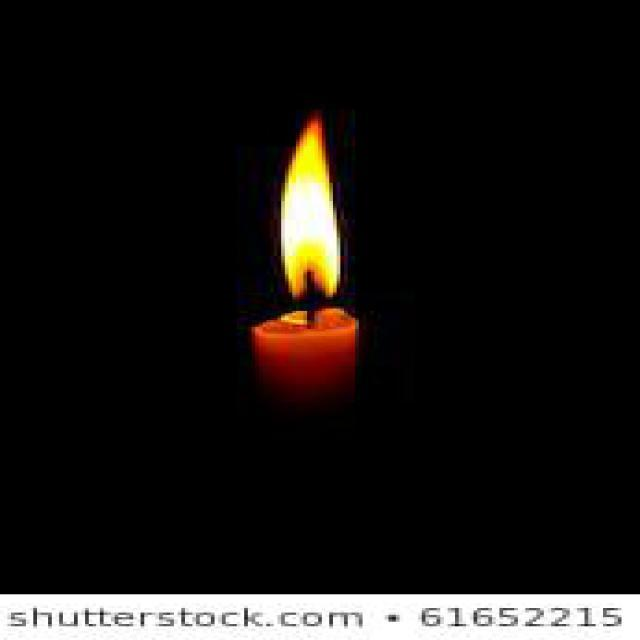Fire: (281, 115, 344, 306)
